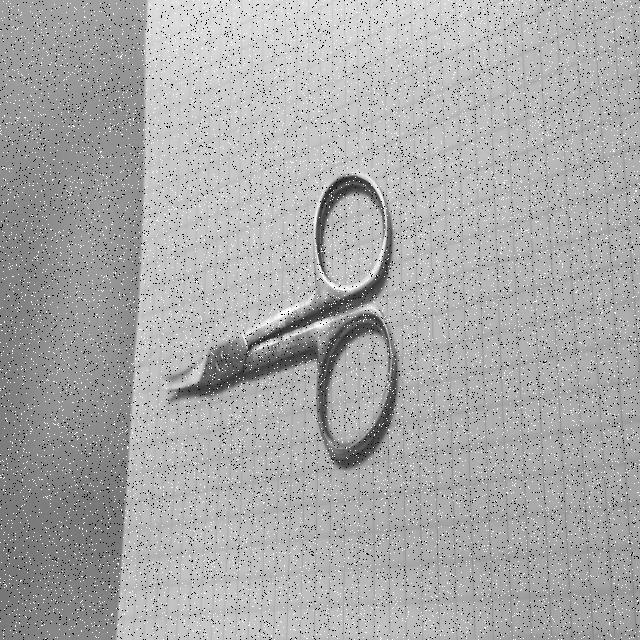scissors: (155, 158, 402, 474)
